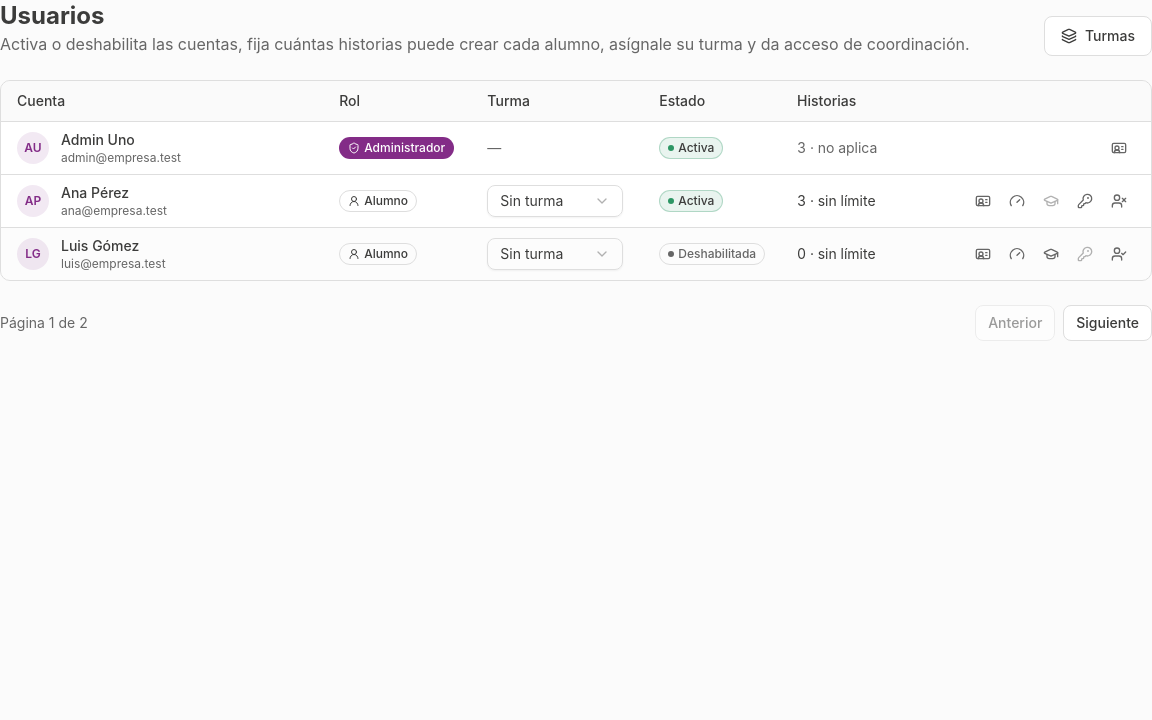
Test case: users — Pantalla de usuarios para administradores › Deshabilitar con confirmación: al cancelar no se envía ninguna petición
Click the button named "Deshabilitar la cuenta de Ana Pérez": (1119, 200) 1103,184 -> 1135,216
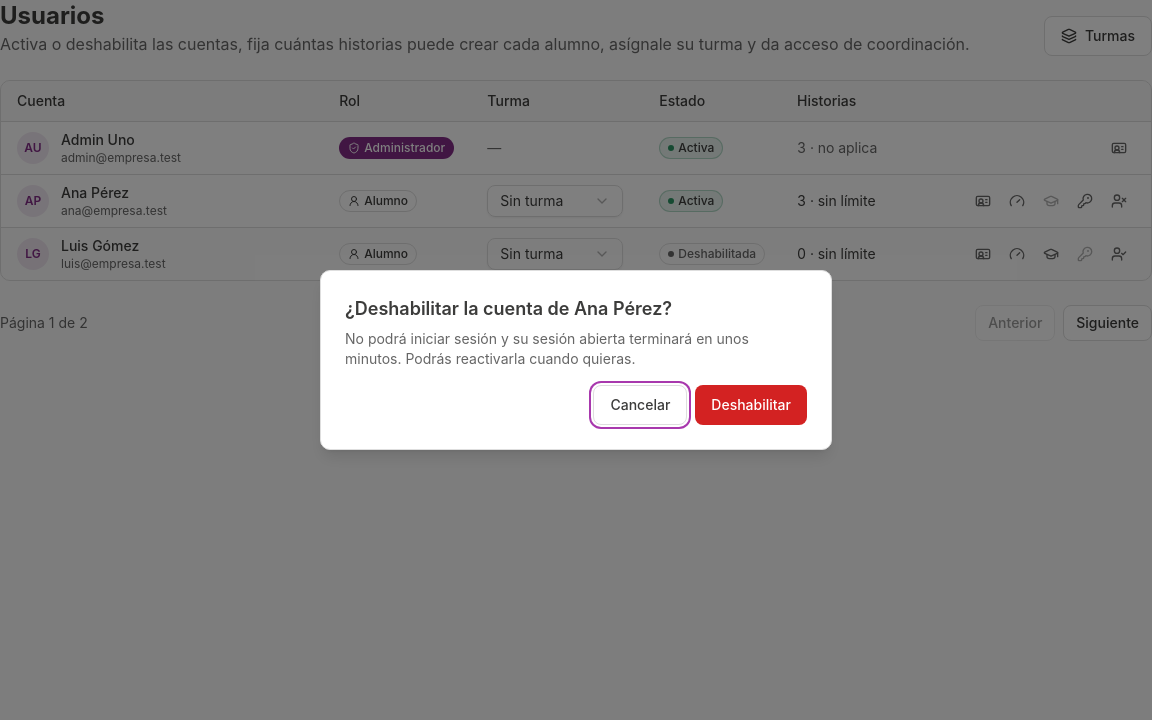
Click the button "Cancelar": (640, 405) 594,385 -> 687,425
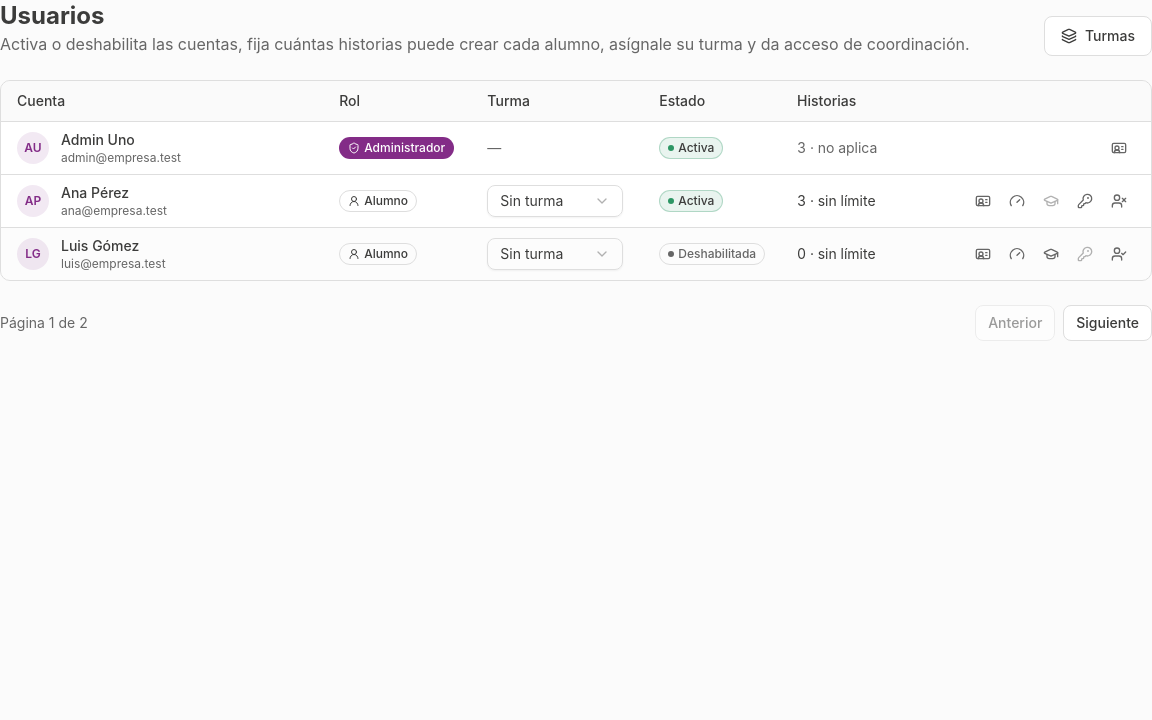
Check: the text "Activa" is shown, box 659,190 -> 723,212
Check: the dialog is gone
